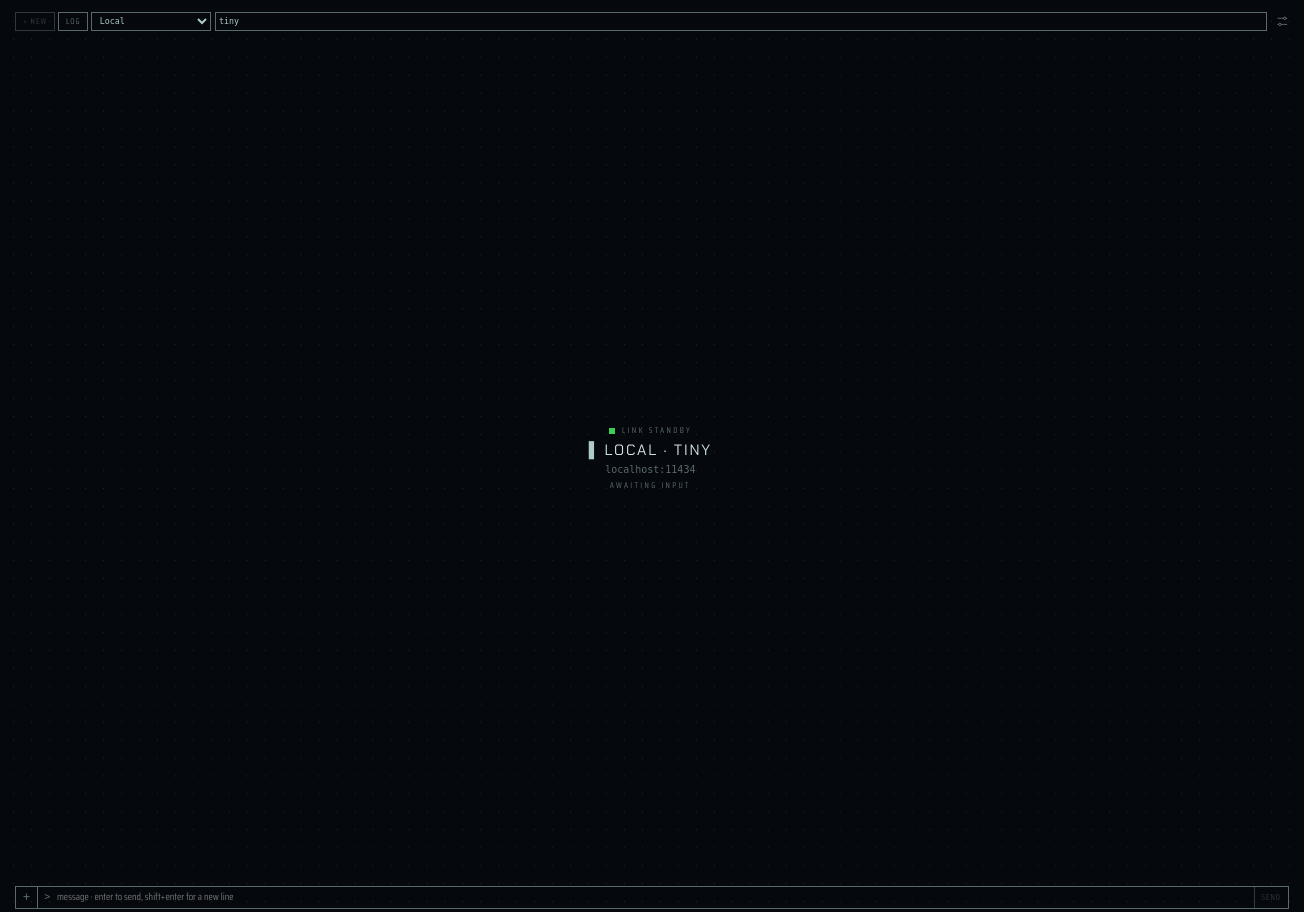
Test: AiChatWidget › offers every model the provider lists, in a list of its own that can be scrolled and walked
Focus the dropdown with test id "aichat-model": (741, 21) [215,12,1267,31]
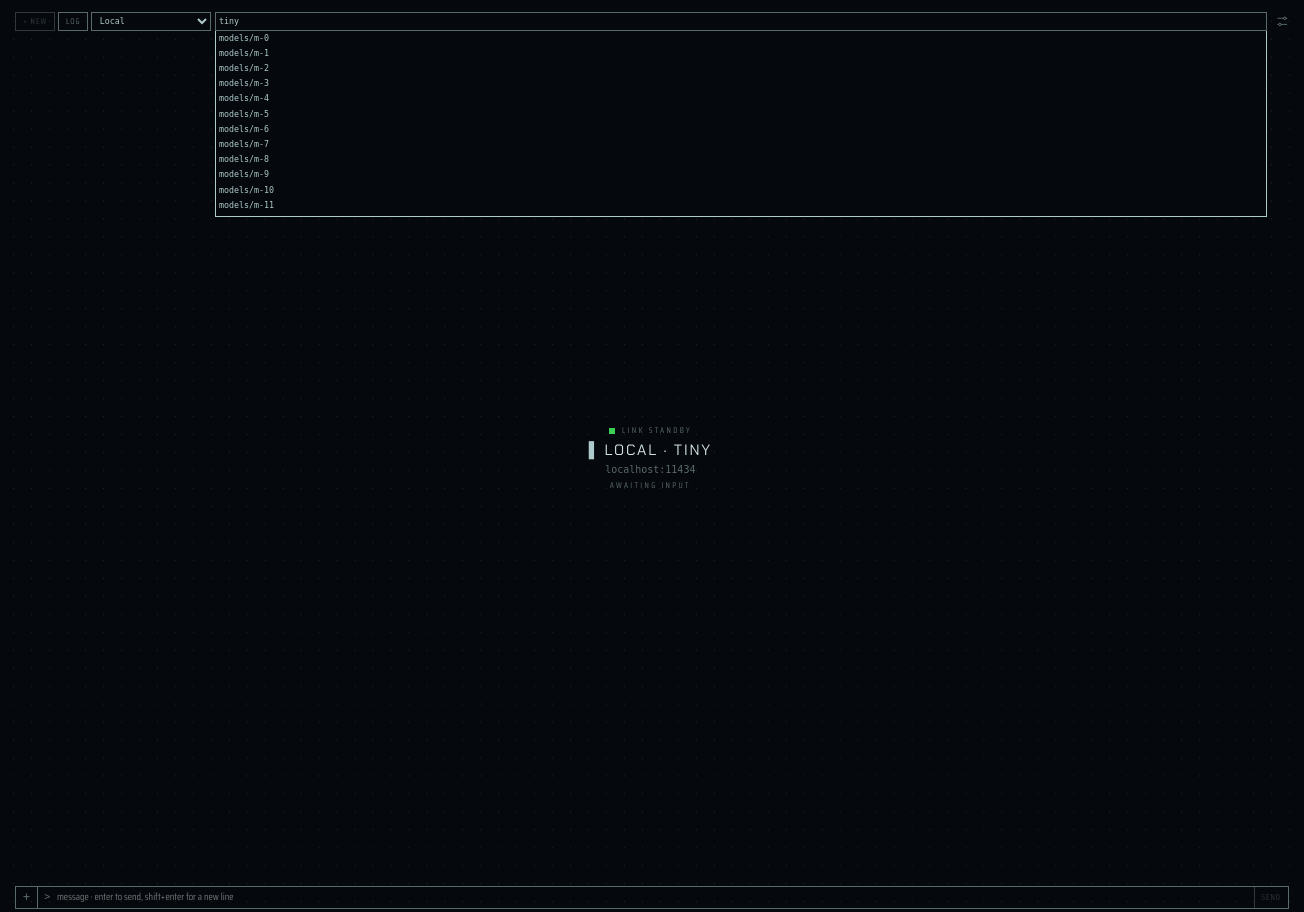
Replace the text in the dropdown with test id "aichat-model" with "m-11": (741, 21) [215,12,1267,31]
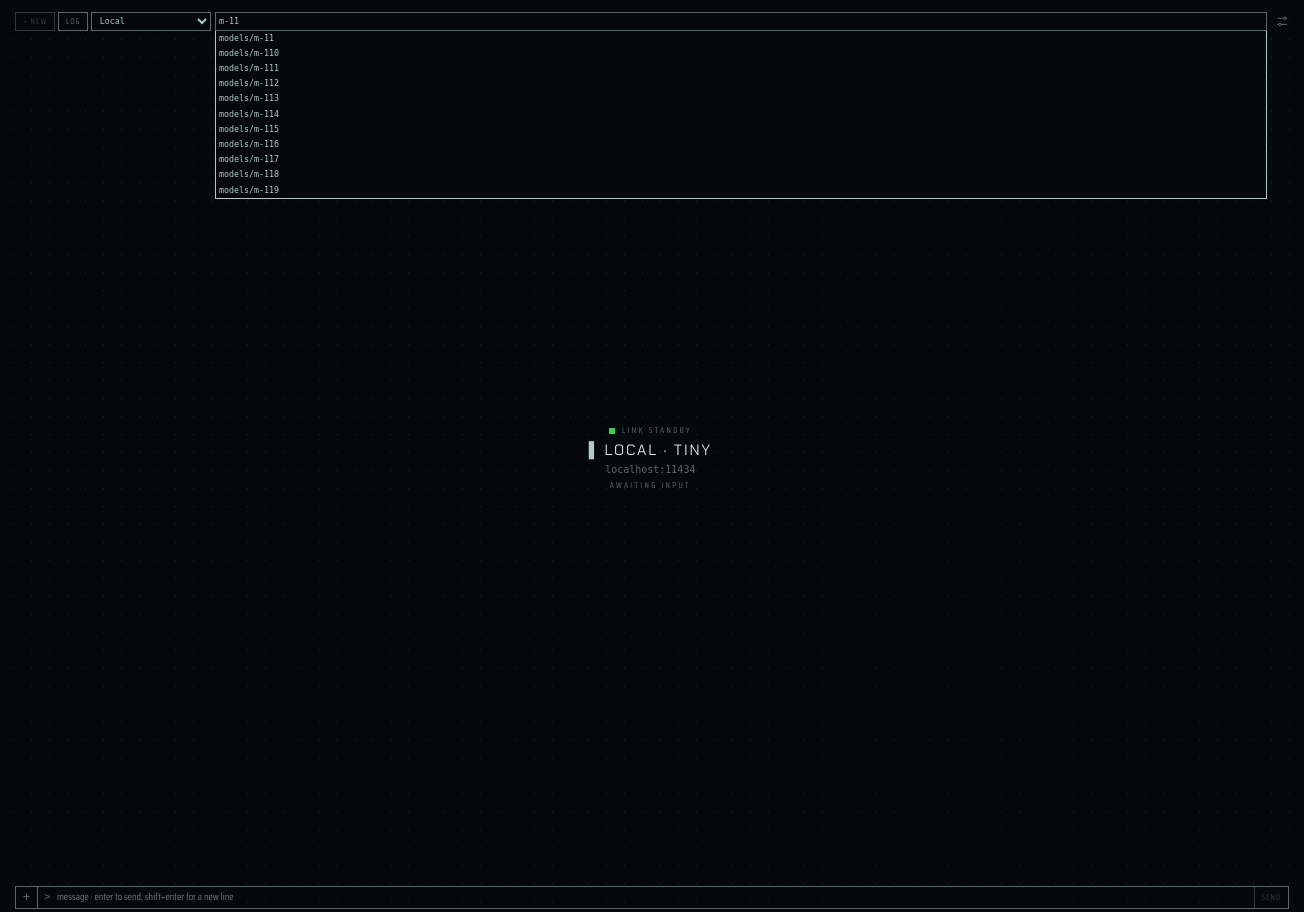
Press ArrowDown in the dropdown with test id "aichat-model", box [215,12,1267,31]
Press ArrowDown in the dropdown with test id "aichat-model", box [215,12,1267,31]
Press Enter in the dropdown with test id "aichat-model", box [215,12,1267,31]
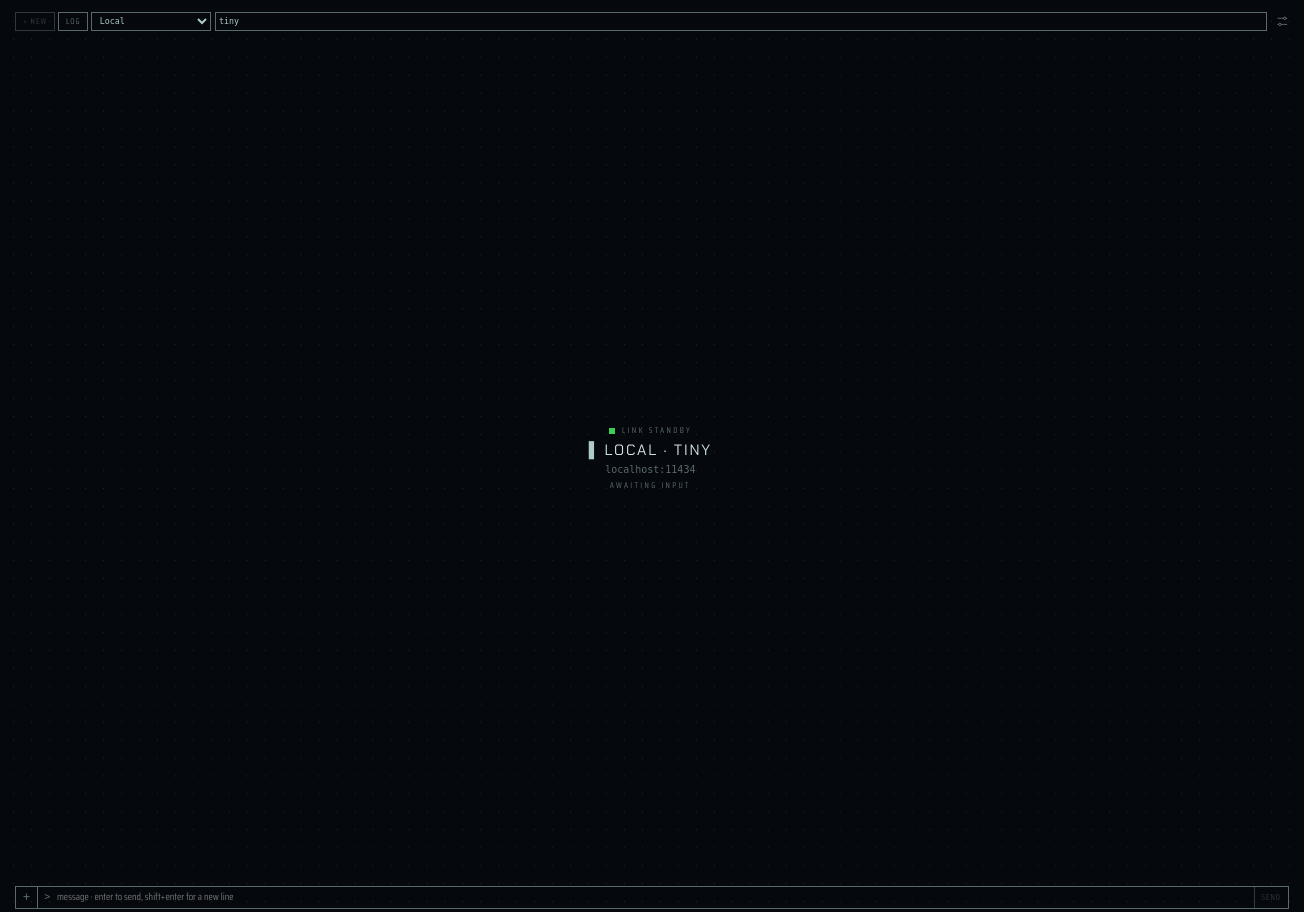
Now the list with test id "aichat-model-list" is gone
